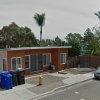Car: (90, 62, 100, 83)
